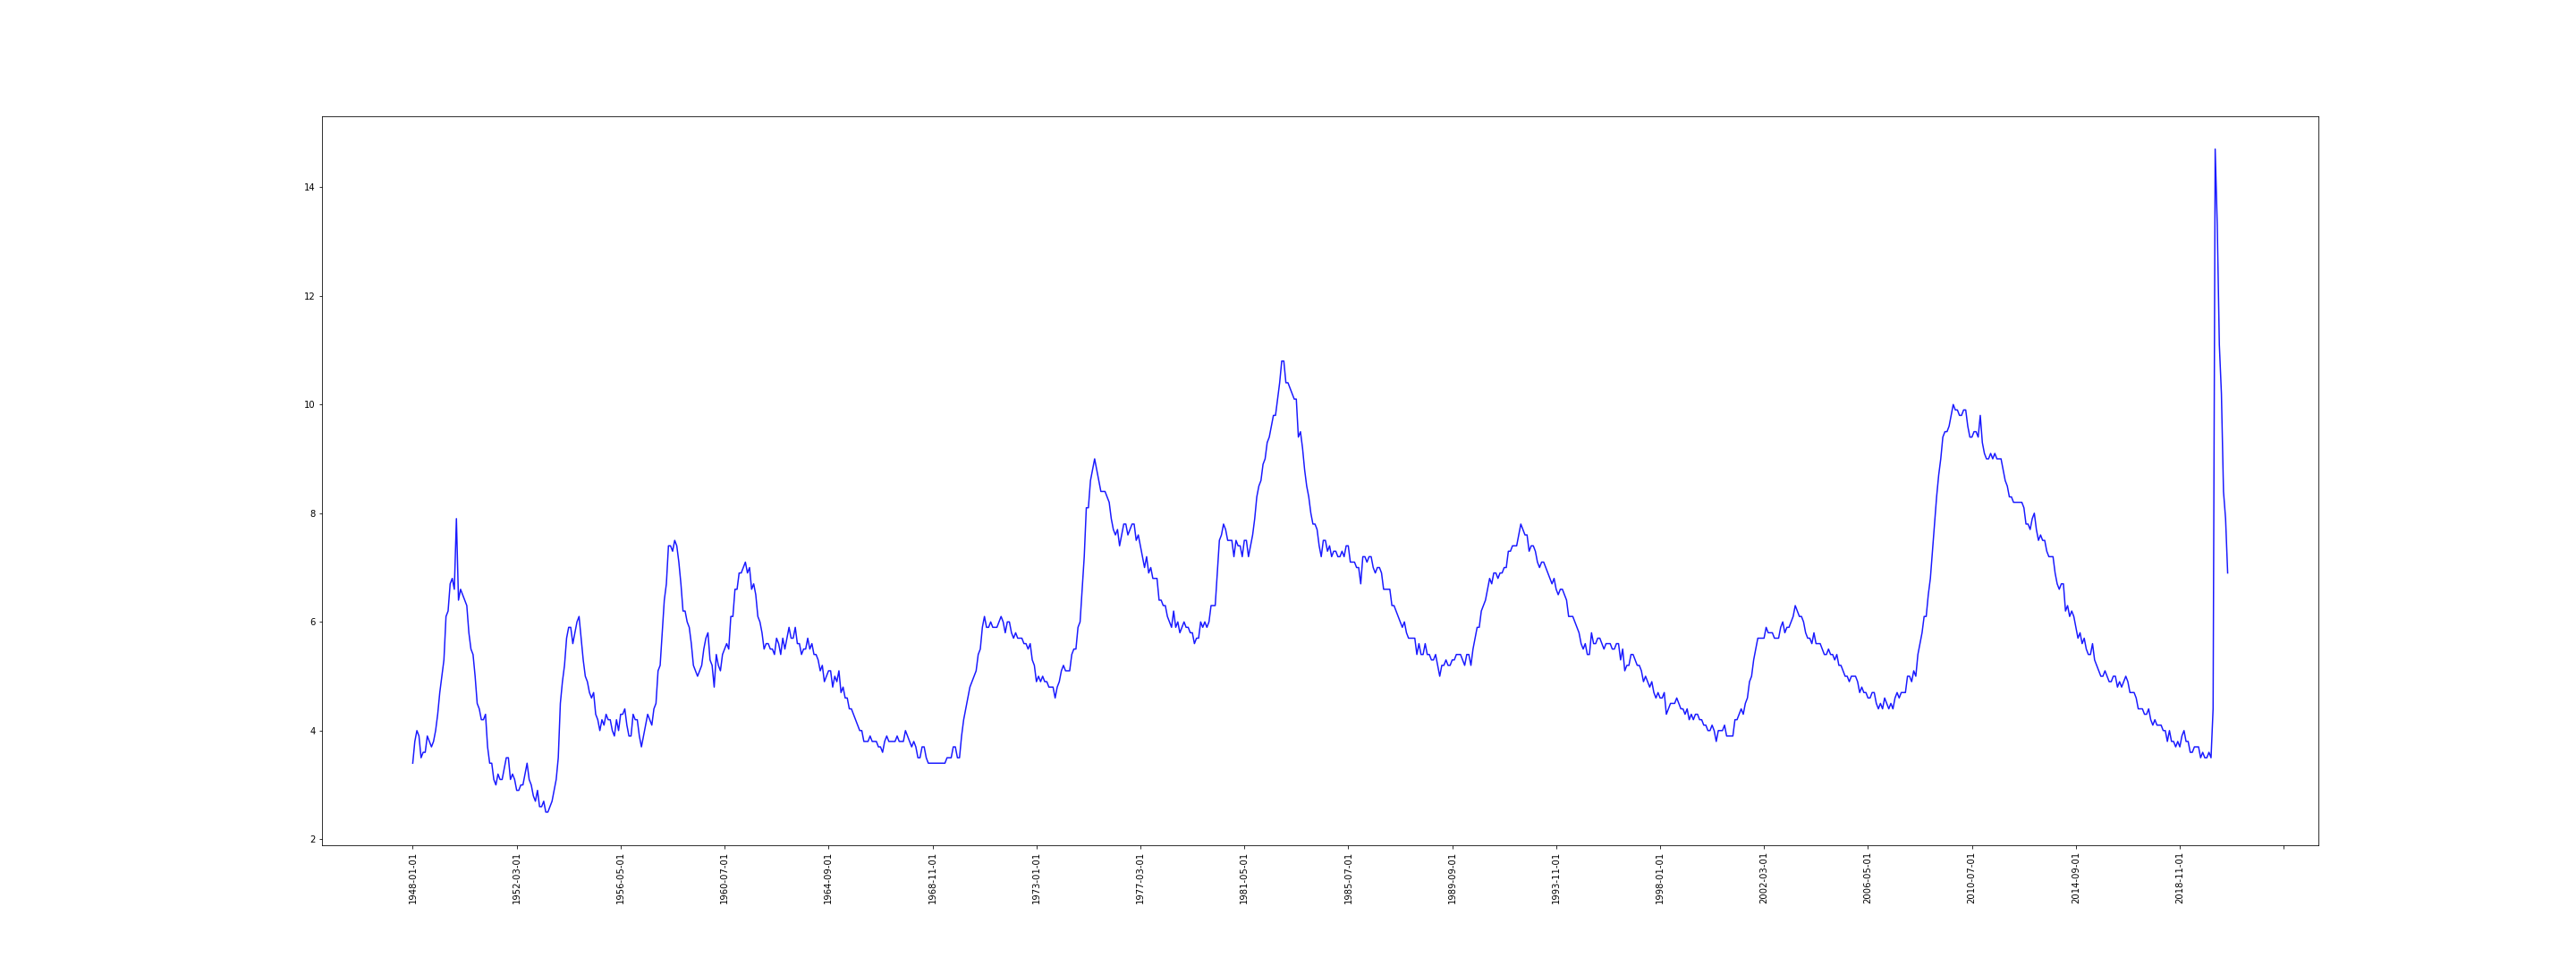

Layout of this report page (visuals, bound fields, positions):
{"tool":"powerbi","page":{"name":"Page 1","canvas":[1280,720],"ordinal":0},"visuals":[{"type":"lineChart","fields":{"Y":["Sum(ICNSA.ICNSA)"],"Category":["ICNSA.DATE"]},"box":[9.7,0,1233.3,650.7],"z":0}]}

Visuals, with their boxes on the page's 1280x720 design canvas (x1, y1, x2, y2). These are canvas units, not pixel positions in the 2576x966 screenshot, which may show the page scaled, cropped or inside an application window:
lineChart - Sum(ICNSA.ICNSA) x ICNSA.DATE: x1=10 y1=0 x2=1243 y2=651
